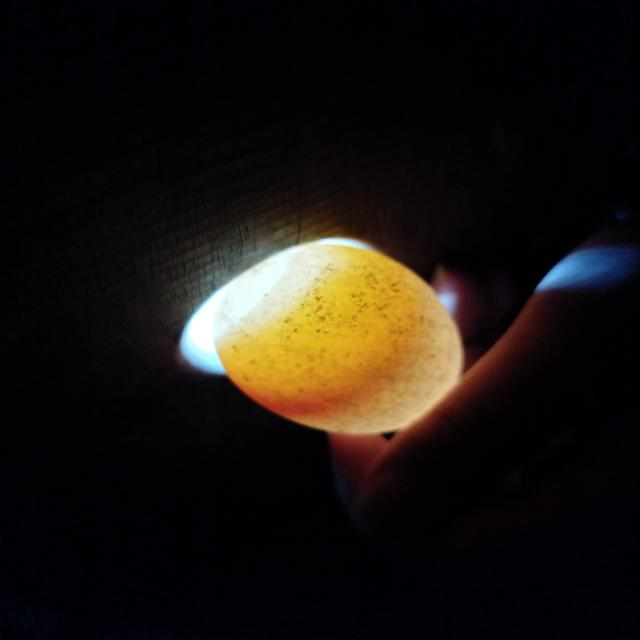Camara de Ar: (213, 246, 295, 334)
Gema Quebrada: (234, 380, 371, 417)
